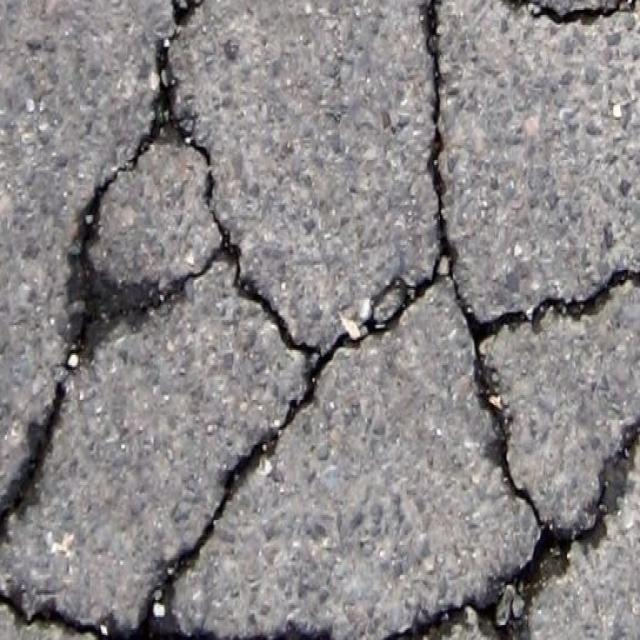Turtle-shell patterned: (3, 3, 640, 640)
